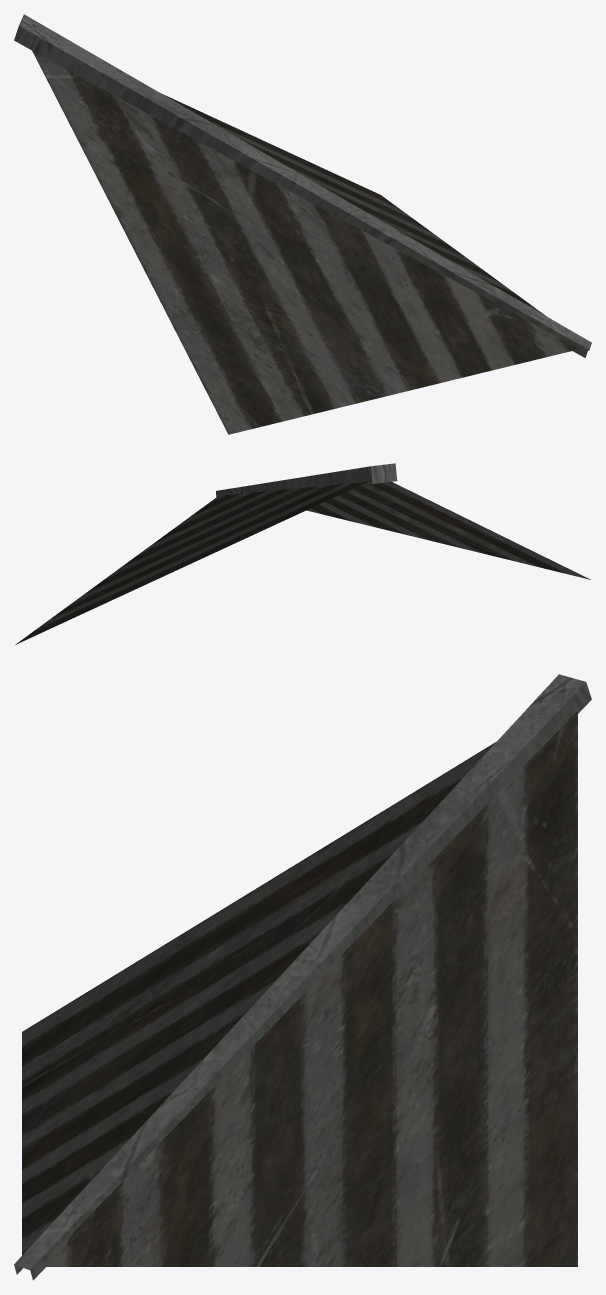
File: roof_corner02.fbx
The picture shows the model from 3 angles, top to bottom: view 1: azimuth 30°, elevation 25°; view 2: azimuth 150°, elevation 25°; view 3: azimuth 270°, elevation 25°; orthographic projection. The views are drawn at different scales.
Visible parts, largest first — view 1: roof_corner02; view 2: roof_corner02; view 3: roof_corner02.
Part boxes in pixels (x1,y1,x2,y2): roof_corner02: [14, 14, 591, 434]; roof_corner02: [15, 463, 590, 644]; roof_corner02: [14, 674, 591, 1280].
Bounding box in the file's own units: 228 × 158 × 226.
